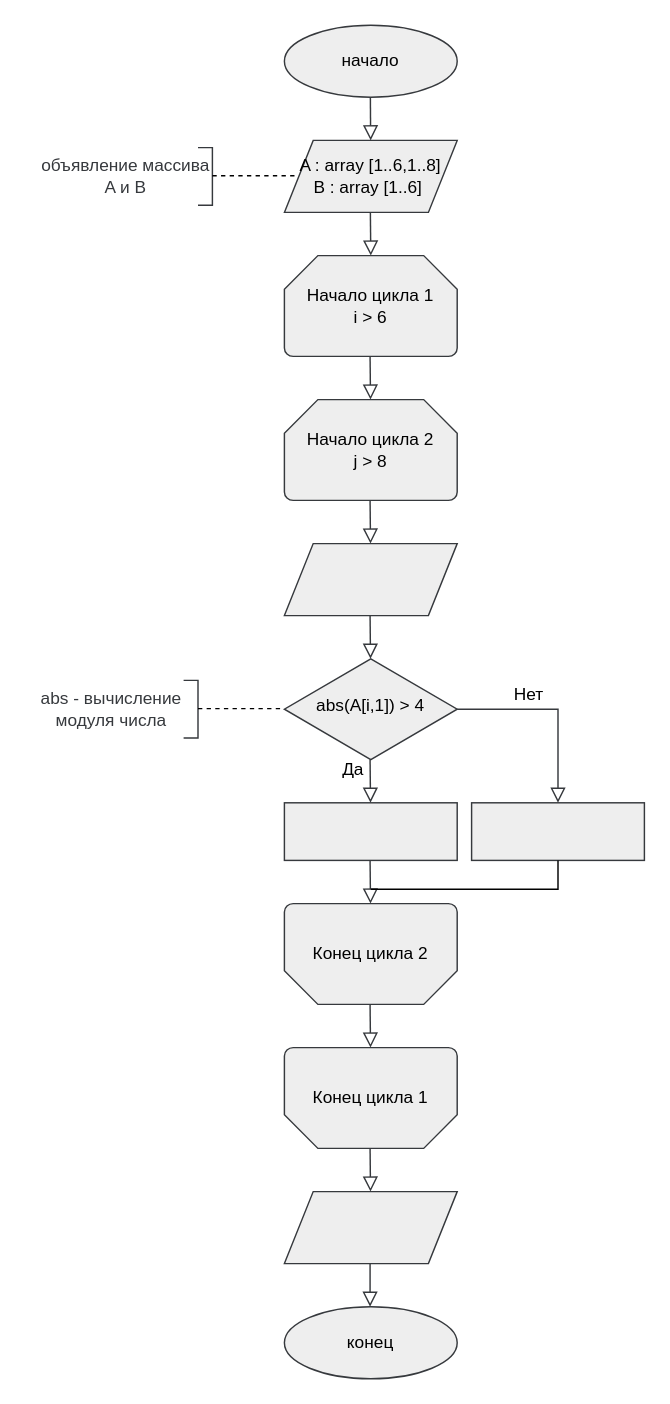
Image size: 670x1404. Some labels were removed from this diagram. The box of each missing label's shape, as (x1, y1, x2, y2) in pixels:
B[i] := 0: (470, 801, 644, 860)
B[i] := A[i,1]: (283, 801, 457, 860)
Вывод массива B: (283, 1190, 457, 1264)
Считывание значения A[i,j] с клавиатуры: (283, 542, 457, 616)
